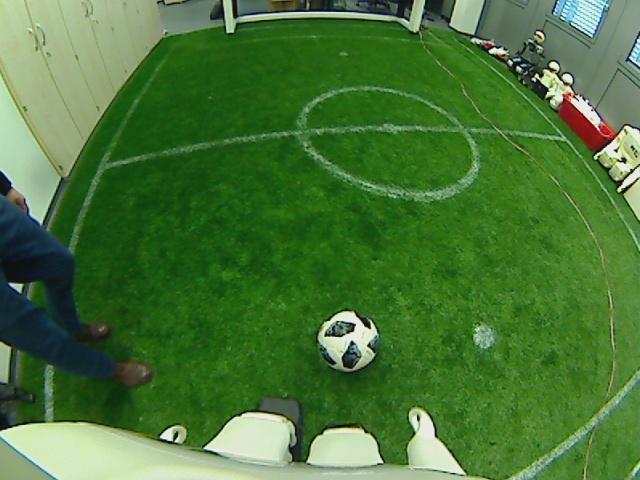ball: (314, 309, 380, 374)
